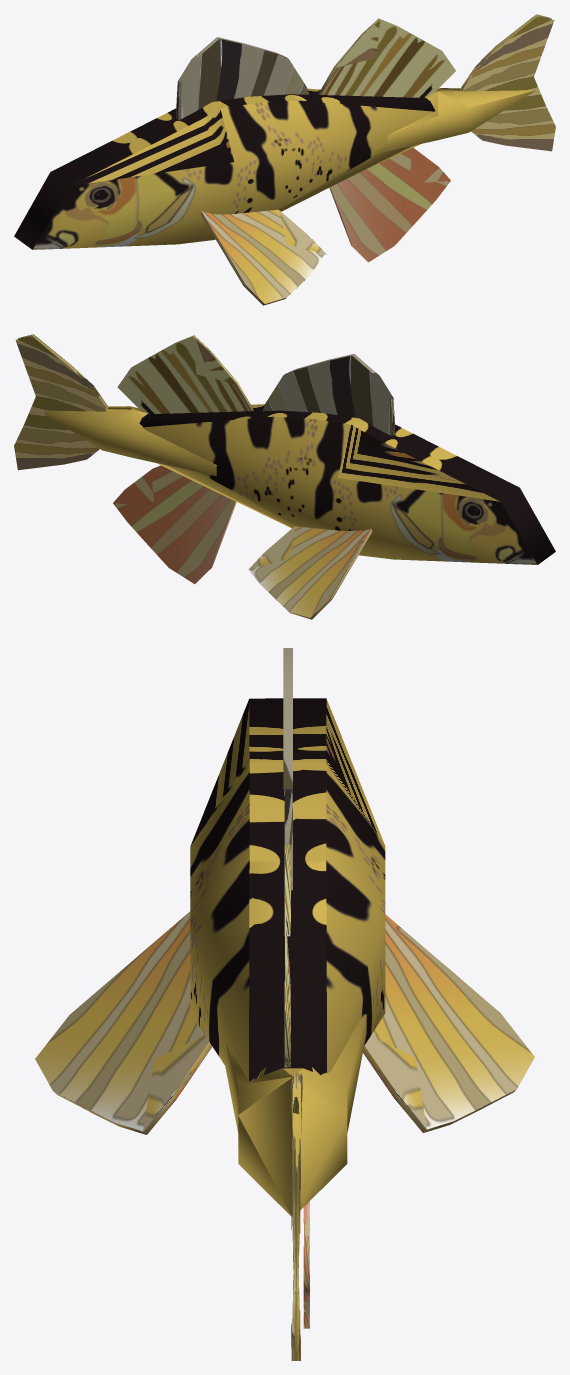
Rendered from perch.FBX.
3 renders of one model, top to bottom at view 1: azimuth 30°, elevation 25°; view 2: azimuth 150°, elevation 25°; view 3: azimuth 270°, elevation 25°, orthographic. The views are drawn at different scales.
Parts seen in each view (by area): view 1: Box001, Box006, Box008, Box003, Box005, Box004, Box007; view 2: Box001, Box006, Box003, Box009, Box005, Box004, Box007; view 3: Box001, Box008, Box009, Box007, Box003, Box004, Box005, Box006.
Part boxes in pixels (<box>): Box001: <box>14,88,435,249</box>; Box006: <box>329,147,450,262</box>; Box008: <box>201,209,326,305</box>; Box003: <box>461,14,555,151</box>; Box005: <box>318,18,455,97</box>; Box004: <box>176,37,309,119</box>; Box007: <box>379,88,535,152</box>; Box001: <box>139,404,555,564</box>; Box006: <box>113,465,236,584</box>; Box003: <box>14,334,108,470</box>; Box009: <box>248,526,372,619</box>; Box005: <box>117,335,253,414</box>; Box004: <box>263,354,394,435</box>; Box007: <box>44,406,216,475</box>; Box001: <box>190,698,385,1135</box>; Box008: <box>35,911,212,1134</box>; Box009: <box>363,914,534,1132</box>; Box007: <box>225,1014,366,1216</box>; Box003: <box>291,1073,302,1360</box>; Box004: <box>283,648,292,890</box>; Box005: <box>284,844,290,1067</box>; Box006: <box>303,1201,309,1328</box>.
Size of the model in its own units: 71.52 by 33.95 by 29.23.
Materials: 7 (7 with a texture image).
